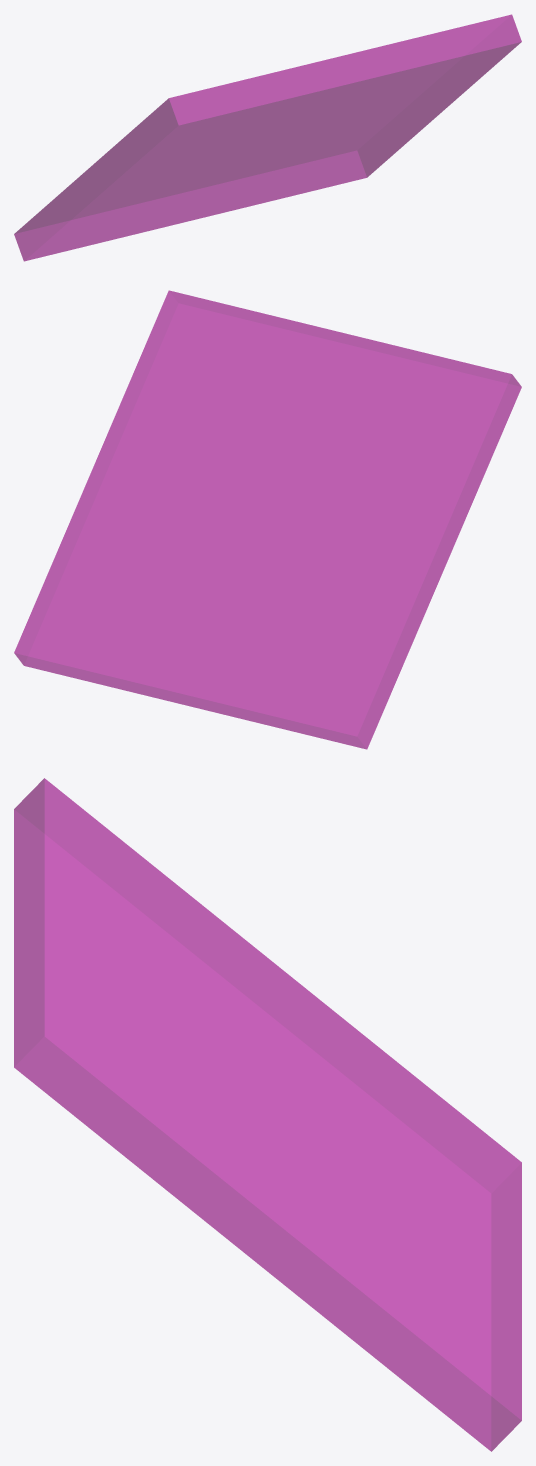
Rendered from SM_Veh_Wagon_Cage_01_Ramp_01_Collision.fbx.
3 renders of one model, top to bottom at view 1: azimuth 30°, elevation 25°; view 2: azimuth 150°, elevation 25°; view 3: azimuth 270°, elevation 25°, orthographic. The views are drawn at different scales.
Visible parts, largest first — view 1: SM_Veh_Wagon_Cage_01_Ramp_01_Collision; view 2: SM_Veh_Wagon_Cage_01_Ramp_01_Collision; view 3: SM_Veh_Wagon_Cage_01_Ramp_01_Collision.
Part boxes in pixels (x1,y1,x2,y2): SM_Veh_Wagon_Cage_01_Ramp_01_Collision: [14, 14, 521, 261]; SM_Veh_Wagon_Cage_01_Ramp_01_Collision: [14, 290, 521, 749]; SM_Veh_Wagon_Cage_01_Ramp_01_Collision: [14, 778, 521, 1451].
Size of the model in its own units: 146 by 110 by 122.
